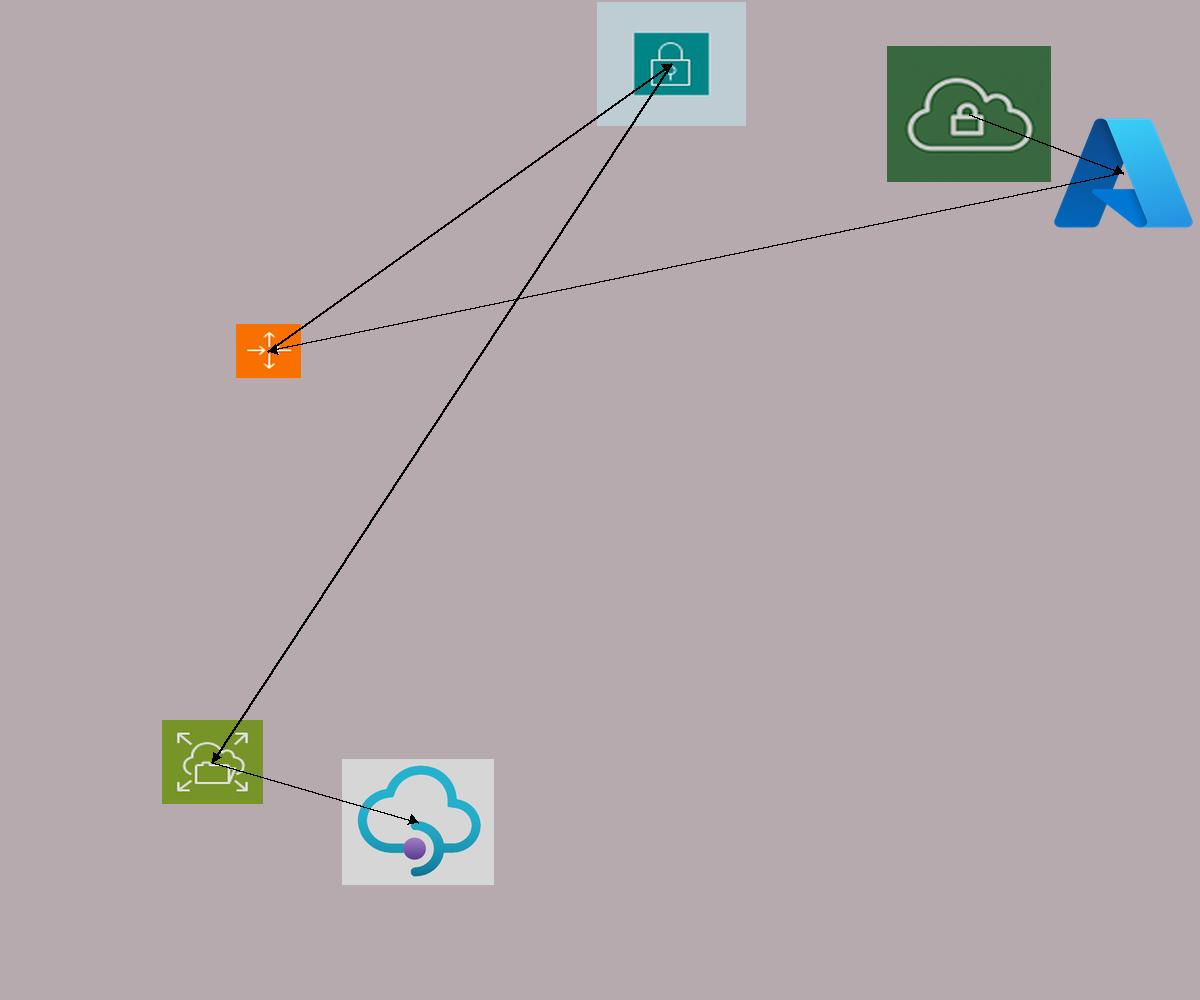AWS-EFS: (162, 720, 263, 804)
AWS-Private-subnet: (597, 2, 746, 126)
AWS-Private_vpc: (887, 46, 1051, 182)
AWS-Scaling-group: (236, 324, 301, 378)
Azure_api_gateway: (342, 759, 494, 885)
Azure_services: (1048, 110, 1199, 236)
